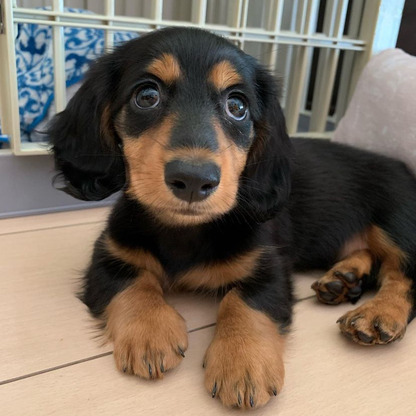dachshund: (55, 20, 404, 398)
